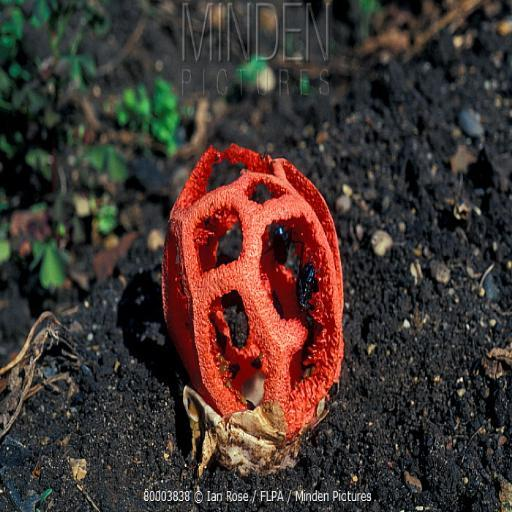mushroom: (161, 140, 345, 463)
